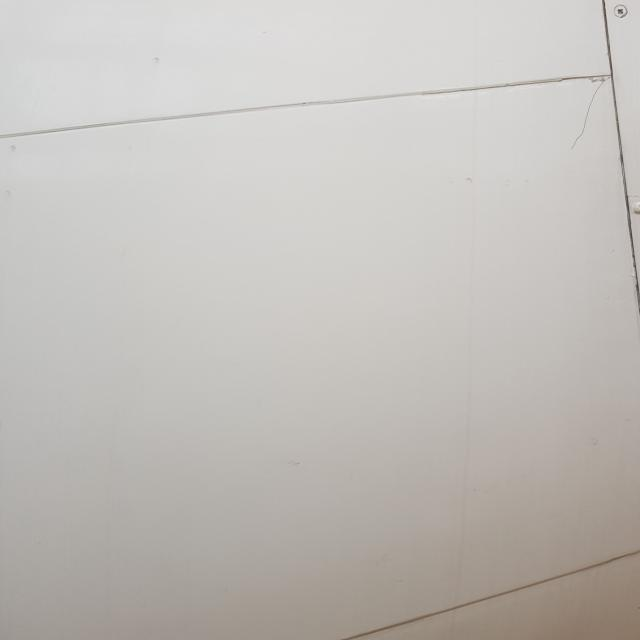crack: (570, 79, 621, 168)
